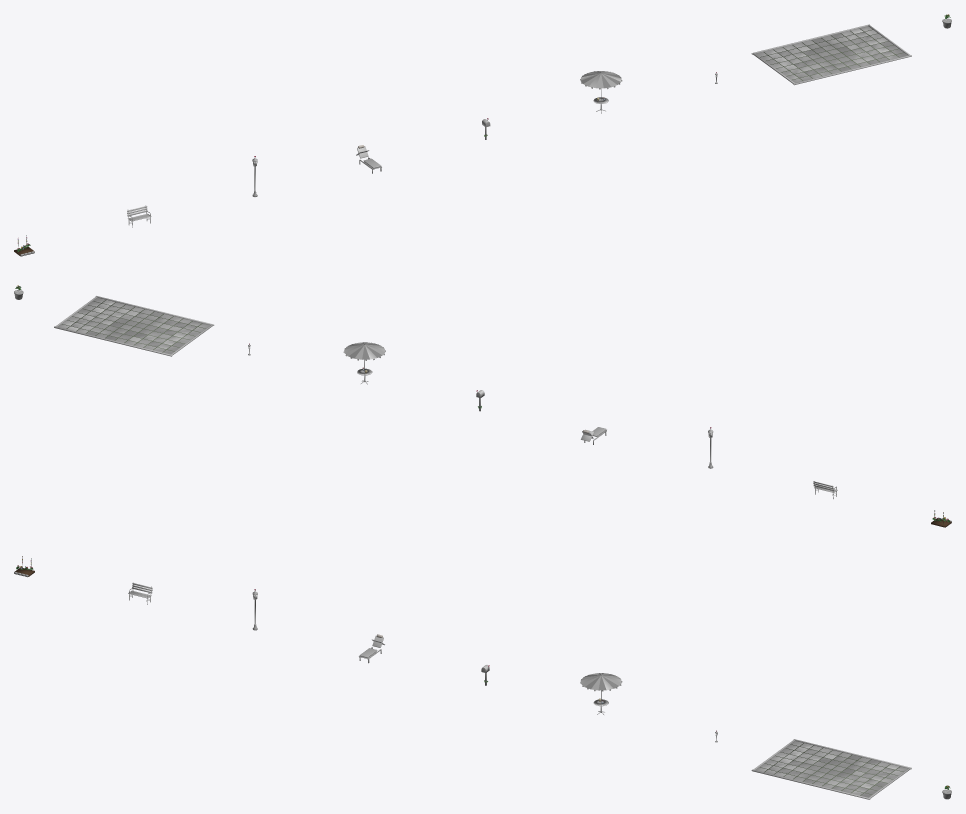
The model's file is bld_home_garden4.glb.
3 views of the same model, one above another, from view 1: azimuth 30°, elevation 25°; view 2: azimuth 150°, elevation 25°; view 3: azimuth 330°, elevation 25° (orthographic).
Visible parts, largest first — view 1: INST_bld_home_garden4_patio_s_stone, INST_bld_home_garden4_patio_s_fixed, INST_bld_home_garden4_patio_s_edge, INST_bld_home_garden4_parasol_table_s_canopy; view 2: INST_bld_home_garden4_patio_s_stone, INST_bld_home_garden4_patio_s_fixed, INST_bld_home_garden4_patio_s_edge, INST_bld_home_garden4_parasol_table_s_canopy; view 3: INST_bld_home_garden4_patio_s_stone, INST_bld_home_garden4_patio_s_fixed, INST_bld_home_garden4_patio_s_edge, INST_bld_home_garden4_parasol_table_s_canopy.
Boxes of the visible parts, x1,y1,x2,y2 form: INST_bld_home_garden4_patio_s_stone: (755, 26, 907, 82); INST_bld_home_garden4_patio_s_fixed: (760, 29, 903, 80); INST_bld_home_garden4_patio_s_edge: (751, 24, 911, 85); INST_bld_home_garden4_parasol_table_s_canopy: (580, 71, 622, 89); INST_bld_home_garden4_patio_s_stone: (58, 297, 210, 354); INST_bld_home_garden4_patio_s_fixed: (62, 300, 205, 352); INST_bld_home_garden4_patio_s_edge: (54, 296, 214, 356); INST_bld_home_garden4_parasol_table_s_canopy: (343, 342, 385, 360); INST_bld_home_garden4_patio_s_stone: (755, 741, 907, 797); INST_bld_home_garden4_patio_s_fixed: (760, 743, 903, 795); INST_bld_home_garden4_patio_s_edge: (751, 739, 911, 799); INST_bld_home_garden4_parasol_table_s_canopy: (580, 673, 622, 691).
Size of the model in its own units: 64.83 by 2.68 by 5.12.
